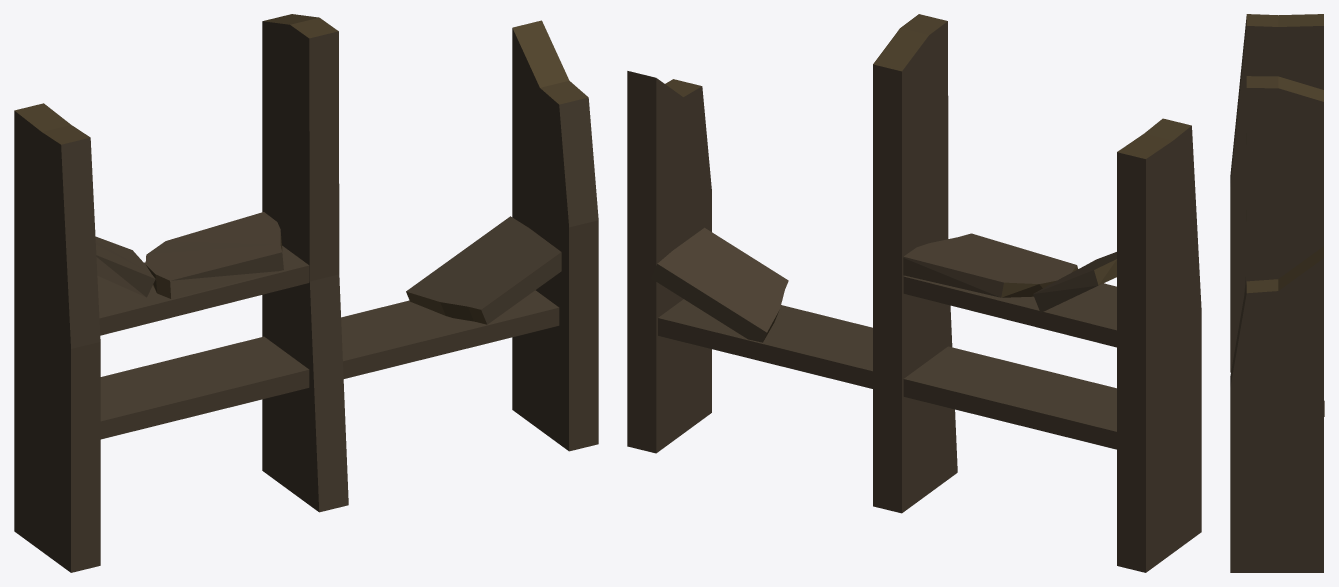
File: ADDON_DUNGEON_SHELF_03.OBJ
The picture shows the model from 3 angles, left to right: view 1: azimuth 30°, elevation 25°; view 2: azimuth 150°, elevation 25°; view 3: azimuth 270°, elevation 25°; orthographic projection. The views are drawn at different scales.
Parts seen in each view (by area): view 1: ADDON_DUNGEON_SHELF_03; view 2: ADDON_DUNGEON_SHELF_03; view 3: ADDON_DUNGEON_SHELF_03.
Boxes of the visible parts, left/top/right/bottom form: ADDON_DUNGEON_SHELF_03: left=14, top=14, right=598, bottom=572; ADDON_DUNGEON_SHELF_03: left=627, top=14, right=1201, bottom=572; ADDON_DUNGEON_SHELF_03: left=1230, top=14, right=1324, bottom=572.
Bounding box in the file's own units: 3.39 × 2.86 × 0.6361.
